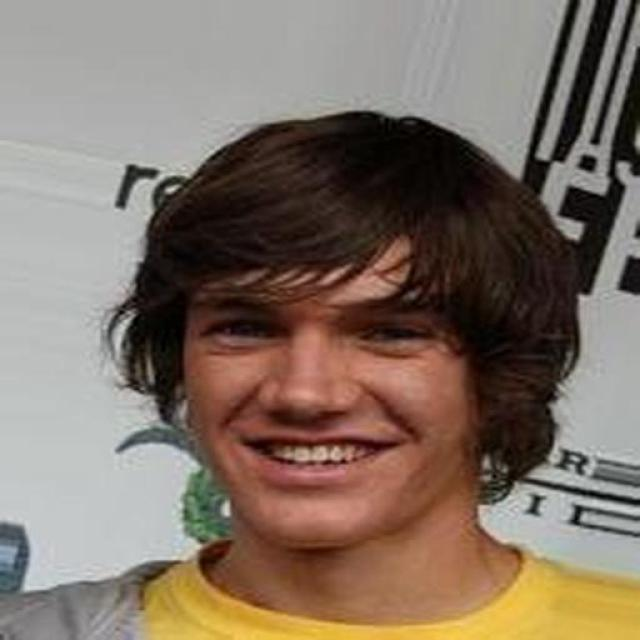bareface: (176, 137, 554, 541)
